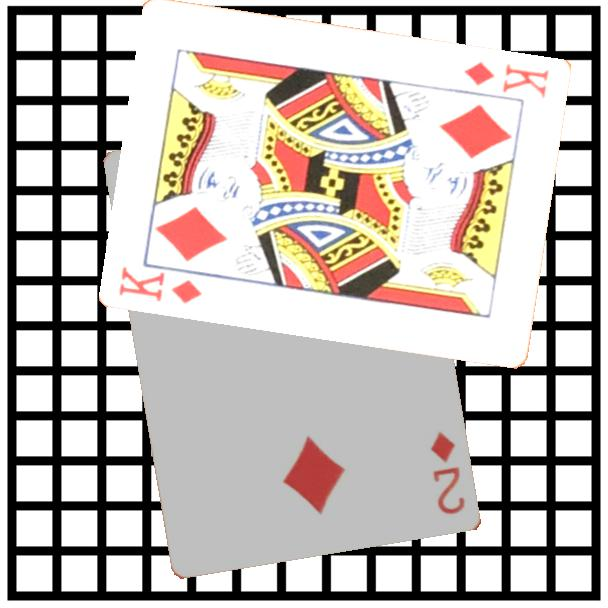d02: (428, 429, 469, 518)
d13: (461, 57, 553, 101), (116, 262, 205, 306)
